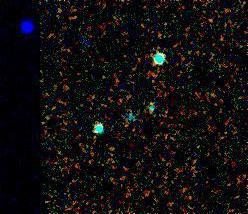star: (76, 25, 106, 55)
